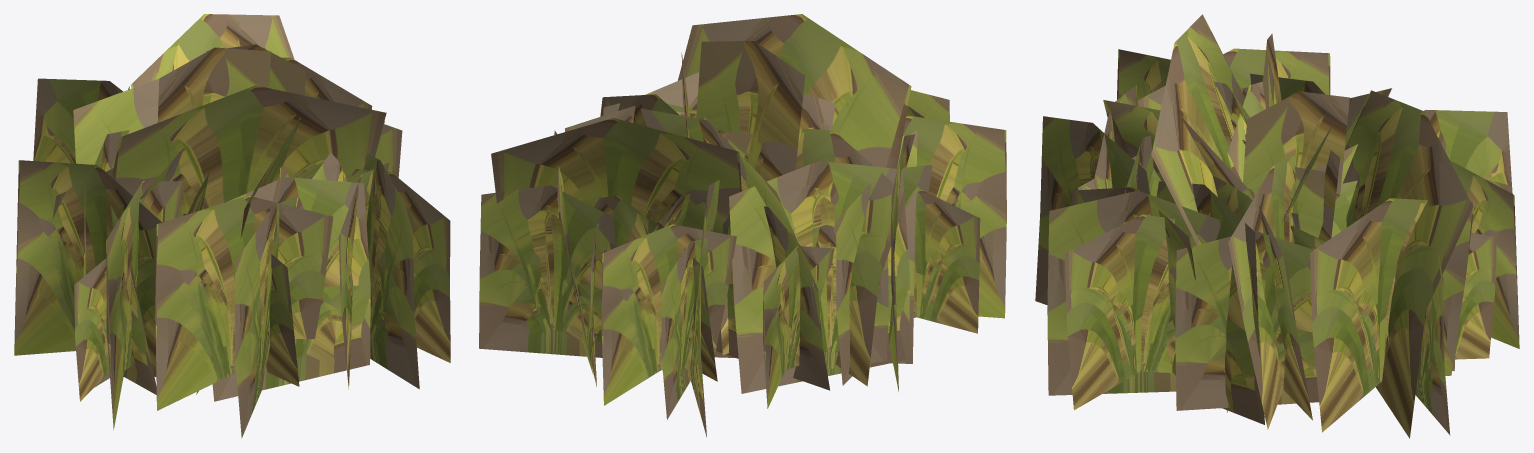
Rendered from SM_Grass.fbx.
3 renders of one model, left to right at view 1: azimuth 30°, elevation 25°; view 2: azimuth 150°, elevation 25°; view 3: azimuth 270°, elevation 25°, orthographic. The views are drawn at different scales.
Parts seen in each view (by area): view 1: SM_Grass; view 2: SM_Grass; view 3: SM_Grass.
Boxes of the visible parts, box(x1,y1,x2,y2) form: SM_Grass: box(14, 14, 450, 438); SM_Grass: box(479, 14, 1006, 437); SM_Grass: box(1035, 14, 1519, 438).
Bounding box in the file's own units: 36.91 × 39.85 × 28.45.
1 material, 1 textured.
